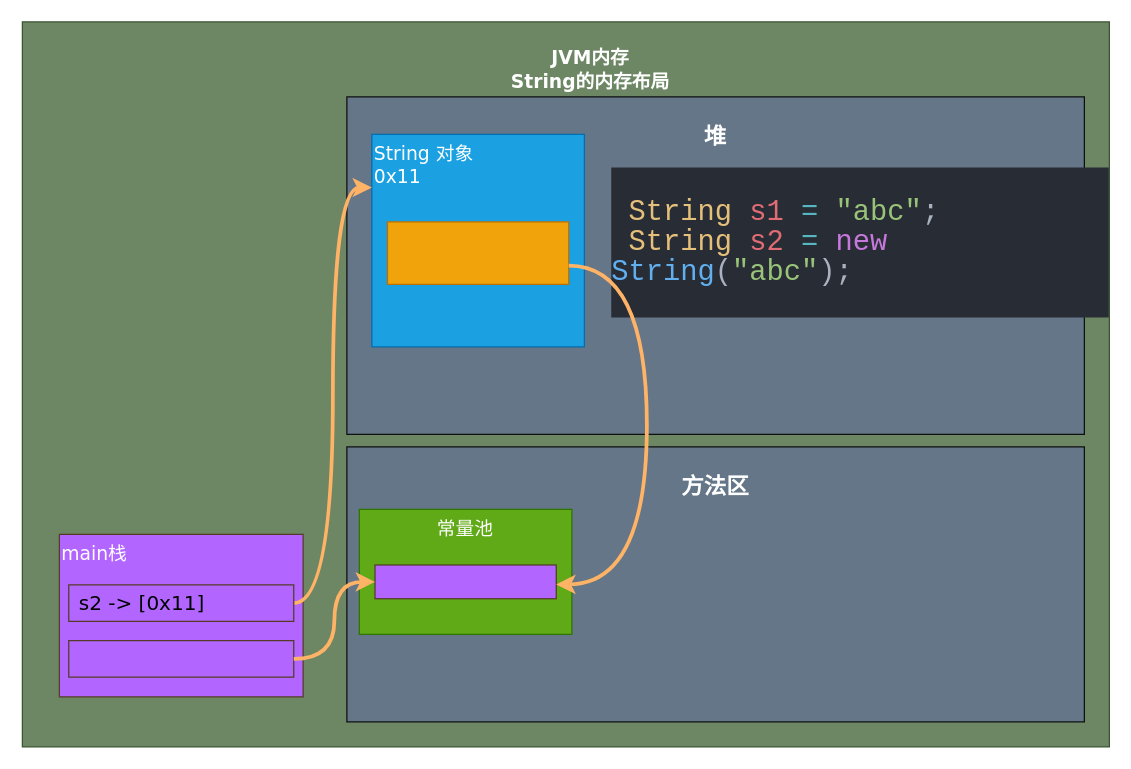
This 1131x769 diagram has some shape labels left out. Each missing label, with the centre of its shape:
"abc" : 0x99: the point at 465,581
s1 -> [0x99]: the point at 181,658
value -> [0x22]: the point at 477,252
